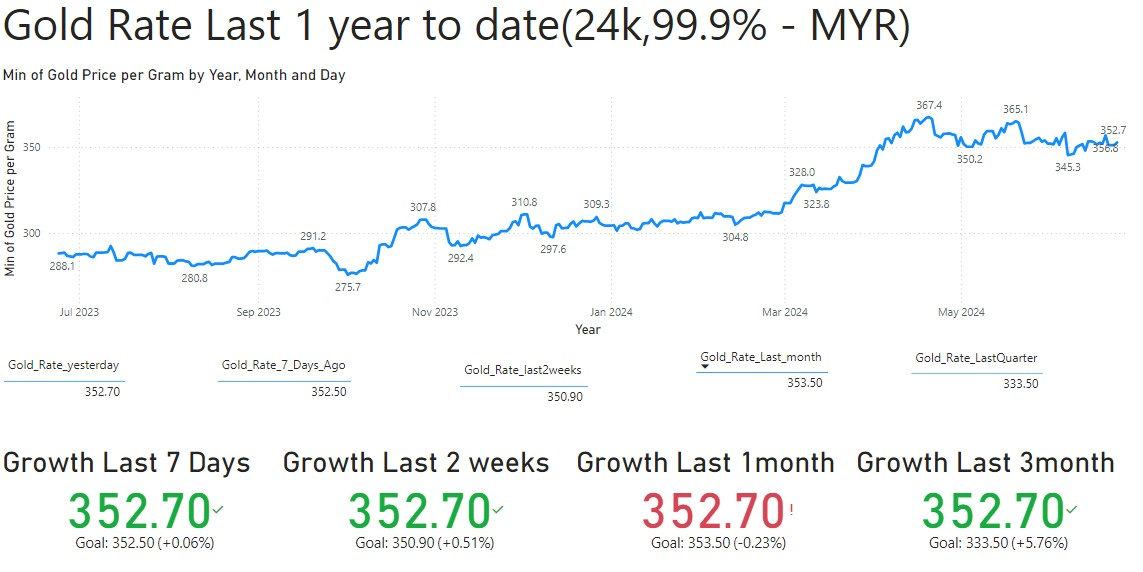

What the dashboard file says about the page in this screenshot:
{"tool":"powerbi","page":{"name":"Overview","canvas":[1280,720],"ordinal":0},"visuals":[{"type":"lineChart","fields":{"Category":["gold_price_today.Date.Variation.Date Hierarchy.Year","gold_price_today.Date.Variation.Date Hierarchy.Month","gold_price_today.Date.Variation.Date Hierarchy.Day"],"Y":["Min(gold_price_today.Gold Price per Gram)"]},"box":[0,85.1,1259.7,303.3],"z":0},{"type":"textbox","box":[0,0,1055.2,85.1],"z":1000},{"type":"tableEx","fields":{"Values":["gold_price_today.Gold_Rate_7_Days_Ago"]},"box":[234.6,397.9,175.6,76.8],"z":2000},{"type":"tableEx","fields":{"Values":["gold_price_today.Gold_Rate_last2weeks"]},"box":[500.9,403.4,174.3,65.9],"z":3000},{"type":"tableEx","fields":{"Values":["gold_price_today.Gold_Rate_yesterday"]},"box":[0,397.9,183.9,76.8],"z":3001},{"type":"tableEx","fields":{"Values":["gold_price_today.Gold_Rate_Last_month"]},"box":[760.2,388.3,204.5,91.9],"z":3002},{"type":"kpi","title":"Growth Last 7 Days","fields":{"Indicator":["gold_price_today.Gold_Rate_yesterday"],"Goal":["gold_price_today.Gold_Rate_7_Days_Ago"],"TrendLine":["gold_price_today.Date.Variation.Date Hierarchy.Year"]},"box":[0,502.2,322.5,127.6],"z":3003},{"type":"kpi","title":"Growth Last 2 weeks","fields":{"Indicator":["gold_price_today.Gold_Rate_yesterday"],"TrendLine":["gold_price_today.Date.Variation.Date Hierarchy.Year"],"Goal":["gold_price_today.Gold_Rate_last2weeks"]},"box":[307.4,502.2,322.5,127.6],"z":3004},{"type":"kpi","title":"Growth Last 1month","fields":{"Indicator":["gold_price_today.Gold_Rate_yesterday"],"TrendLine":["gold_price_today.Date.Variation.Date Hierarchy.Year"],"Goal":["gold_price_today.Gold_Rate_Last_month"]},"box":[629.8,502.2,322.5,127.6],"z":3005},{"type":"kpi","title":"Growth Last 3month","fields":{"Indicator":["gold_price_today.Gold_Rate_yesterday"],"TrendLine":["gold_price_today.Date.Variation.Date Hierarchy.Year"],"Goal":["gold_price_today.Gold_Rate_LastQuarter"]},"box":[937.2,502.2,322.5,127.6],"z":3006},{"type":"tableEx","fields":{"Values":["gold_price_today.Gold_Rate_LastQuarter"]},"box":[996.2,389.7,204.5,91.9],"z":3007}]}

Visuals, with their boxes on the page's 1280x720 design canvas (x1, y1, x2, y2). These are canvas units, not pixel positions in the 1143x572 screenshot, which may show the page scaled, cropped or inside an application window:
lineChart - gold_price_today.Date.Variation.Date Hierarchy.Year x gold_price_today.Date.Variation.Date Hierarchy.Month: {"x1": 0, "y1": 85, "x2": 1260, "y2": 388}
textbox: {"x1": 0, "y1": 0, "x2": 1055, "y2": 85}
tableEx - gold_price_today.Gold_Rate_7_Days_Ago: {"x1": 235, "y1": 398, "x2": 410, "y2": 475}
tableEx - gold_price_today.Gold_Rate_last2weeks: {"x1": 501, "y1": 403, "x2": 675, "y2": 469}
tableEx - gold_price_today.Gold_Rate_yesterday: {"x1": 0, "y1": 398, "x2": 184, "y2": 475}
tableEx - gold_price_today.Gold_Rate_Last_month: {"x1": 760, "y1": 388, "x2": 965, "y2": 480}
"Growth Last 7 Days" kpi: {"x1": 0, "y1": 502, "x2": 322, "y2": 630}
"Growth Last 2 weeks" kpi: {"x1": 307, "y1": 502, "x2": 630, "y2": 630}
"Growth Last 1month" kpi: {"x1": 630, "y1": 502, "x2": 952, "y2": 630}
"Growth Last 3month" kpi: {"x1": 937, "y1": 502, "x2": 1260, "y2": 630}
tableEx - gold_price_today.Gold_Rate_LastQuarter: {"x1": 996, "y1": 390, "x2": 1201, "y2": 482}
